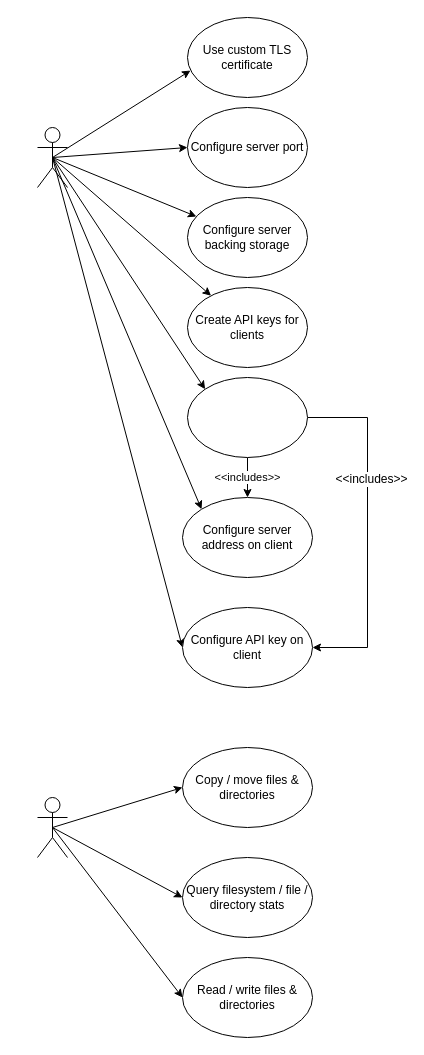
This 424x1055 diagram has some shape labels left out. The shapes that lost their labels are listed below. From the top down, each one's centre as x and y in pixels, then its label:
the point at 52,157: Administrator
the point at 247,417: Install client
the point at 52,827: User
